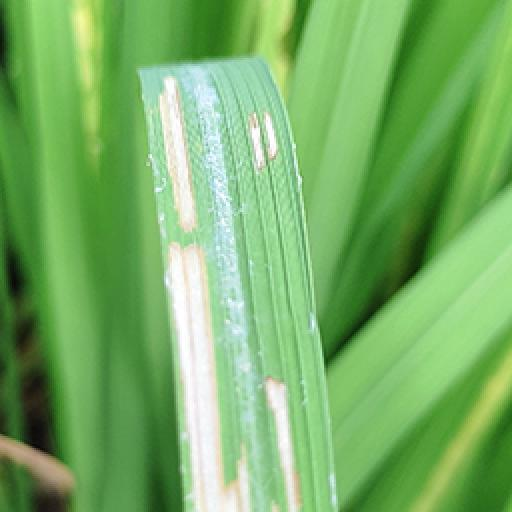Bacterial Leaf Blight: (156, 74, 310, 512)
